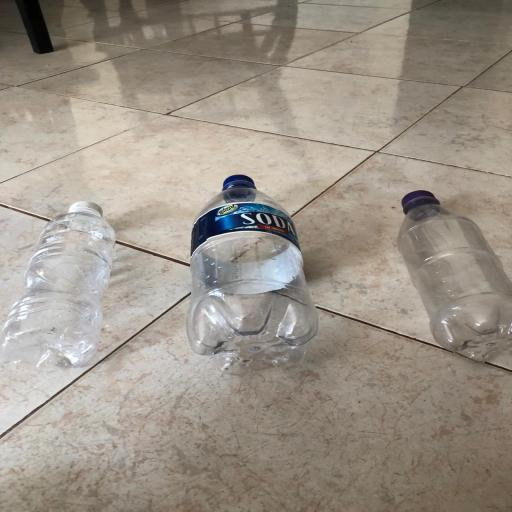waste: (168, 166, 337, 367), (2, 186, 130, 371), (388, 182, 512, 365)
